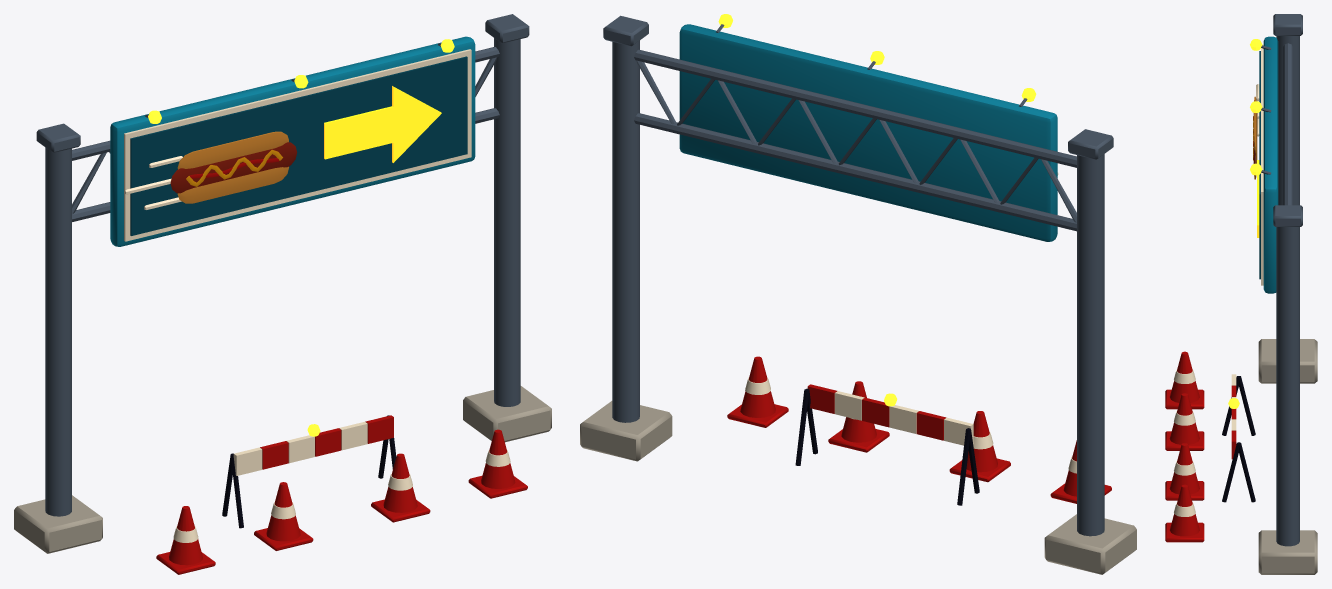
File: ExpressSign.fbx
3 views of the same model, side by side, from view 1: azimuth 30°, elevation 25°; view 2: azimuth 150°, elevation 25°; view 3: azimuth 270°, elevation 25° (orthographic). The views are drawn at different scales.
Visible parts, largest first — view 1: ExpressSign; view 2: ExpressSign; view 3: ExpressSign.
Part boxes in pixels (x1,y1,x2,y2): ExpressSign: (14, 14, 551, 574); ExpressSign: (580, 14, 1136, 574); ExpressSign: (1165, 14, 1317, 574).
Size of the model in its own units: 10.4 by 8.24 by 3.1.
